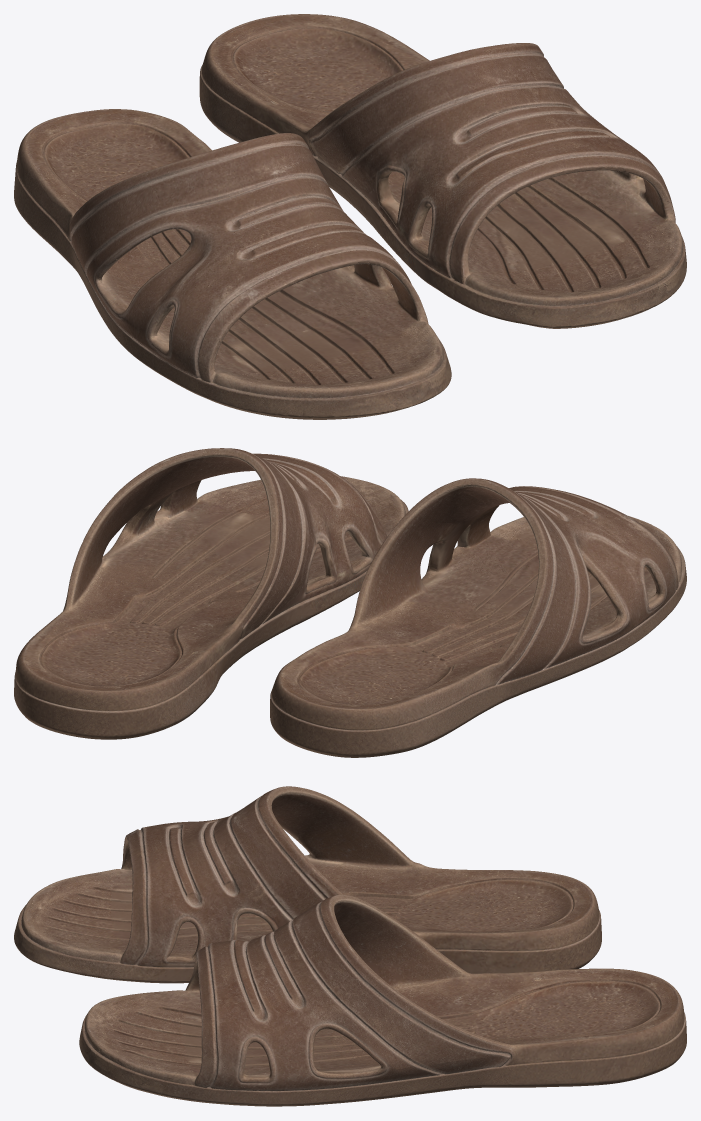
The model's file is original-sandalsB.glb.
3 renders of one model, top to bottom at view 1: azimuth 30°, elevation 25°; view 2: azimuth 150°, elevation 25°; view 3: azimuth 270°, elevation 25°, orthographic. The views are drawn at different scales.
Visible parts, largest first — view 1: Mesh_0; view 2: Mesh_0; view 3: Mesh_0.
Part boxes in pixels (x1=…): Mesh_0: x1=14, y1=14, x2=686, y2=419; Mesh_0: x1=14, y1=448, x2=686, y2=757; Mesh_0: x1=14, y1=786, x2=686, y2=1106.
Size of the model in its own units: 1.5 by 0.4559 by 1.9.
1 material, 1 textured.
